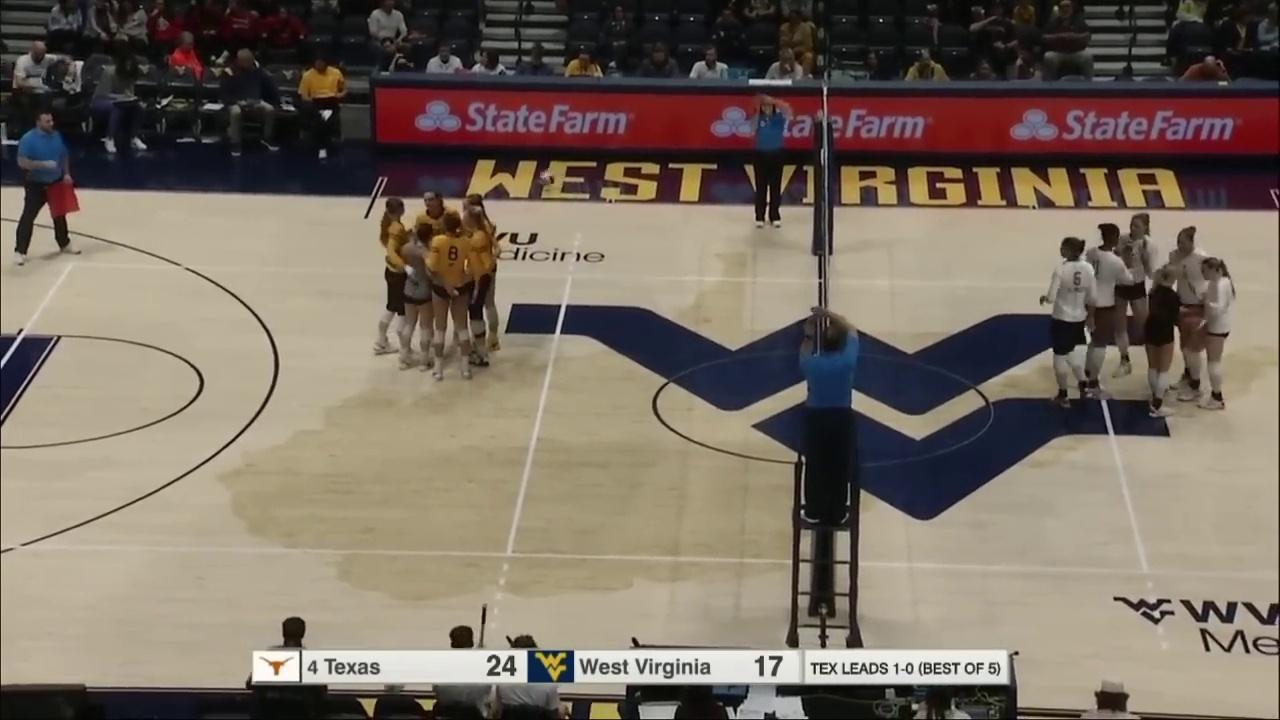player: (1049, 241, 1096, 410), (1085, 225, 1122, 401), (416, 189, 458, 344), (1169, 231, 1205, 402), (1121, 214, 1157, 381), (374, 196, 411, 356), (435, 215, 469, 378), (463, 211, 498, 364), (462, 195, 496, 351), (399, 224, 433, 374), (1200, 256, 1230, 411), (1148, 265, 1177, 418)
refree: (802, 318, 858, 524), (17, 111, 71, 265), (751, 97, 784, 229)
